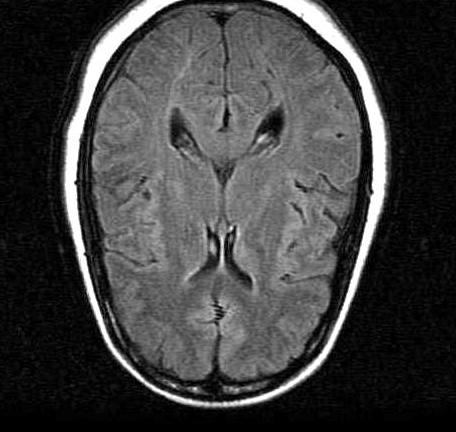Normal_Brain: (52, 1, 427, 432)
